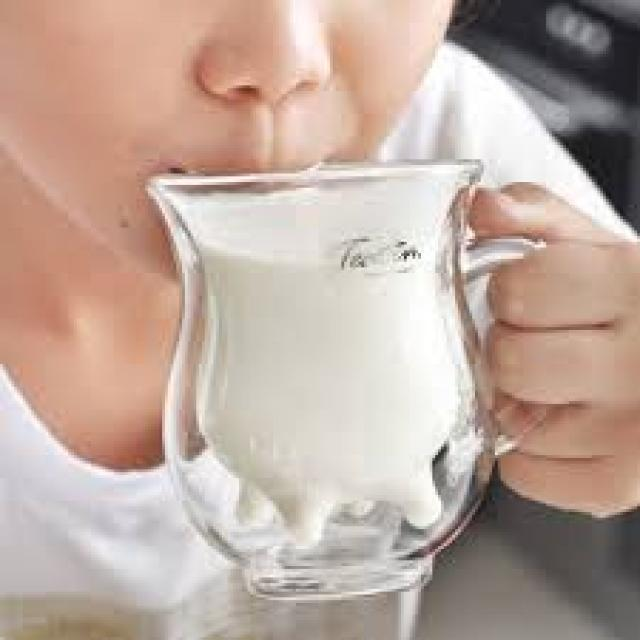taza: (142, 150, 548, 603)
